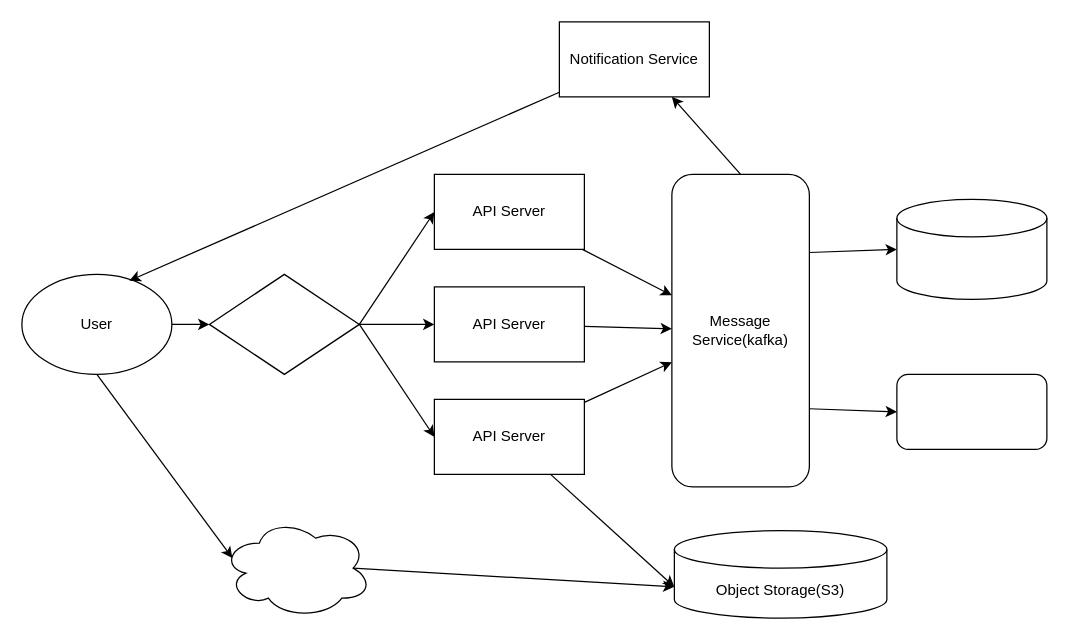
The diagram is 1069 pixels wide and 640 high, and some of its shapes have lost their labels. Each missing label, with the centre of its shape:
"Cache(redis)" goes at [971,411].
"CDN" goes at [296,567].
"Database(hbase)" goes at [971,248].
"Load Blancer(LVS)" goes at [283,323].
